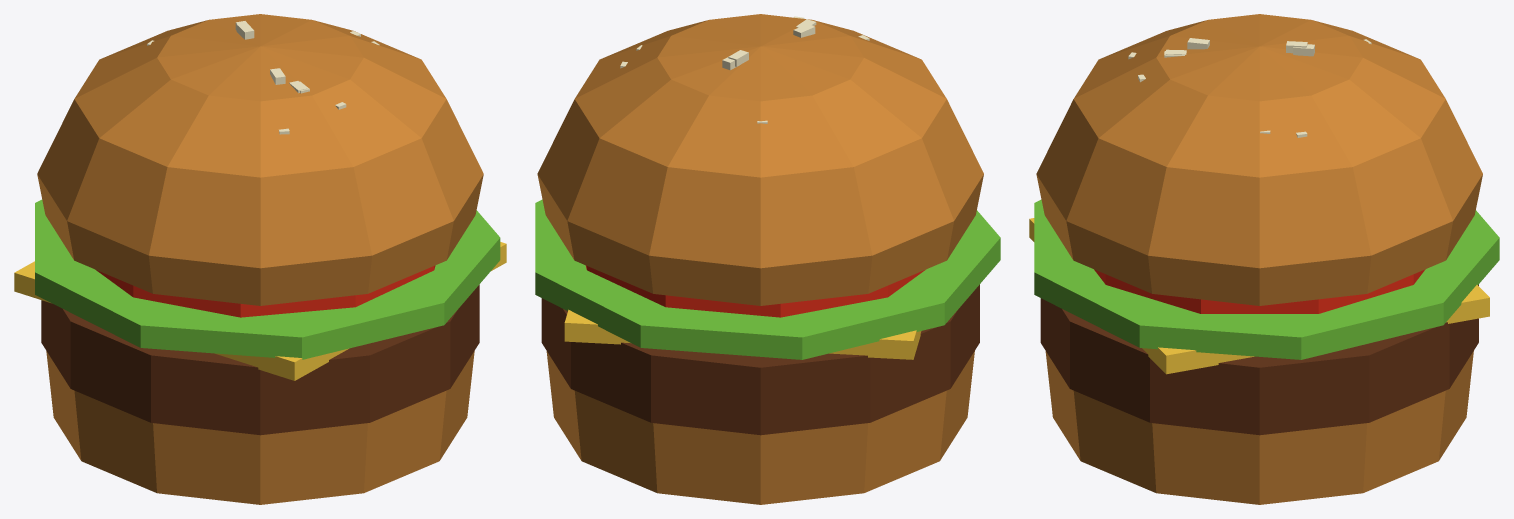
Rendered from burger_scaled (1).glb.
The picture shows the model from 3 angles, left to right: view 1: azimuth 30°, elevation 25°; view 2: azimuth 150°, elevation 25°; view 3: azimuth 270°, elevation 25°; orthographic projection.
Visible parts, largest first — view 1: burger; view 2: burger; view 3: burger.
Boxes of the visible parts, <box> form: burger: <box>14,14,506,504</box>; burger: <box>535,14,1000,504</box>; burger: <box>1029,14,1499,504</box>.
Size of the model in its own units: 0.3142 by 0.2756 by 0.3127.
